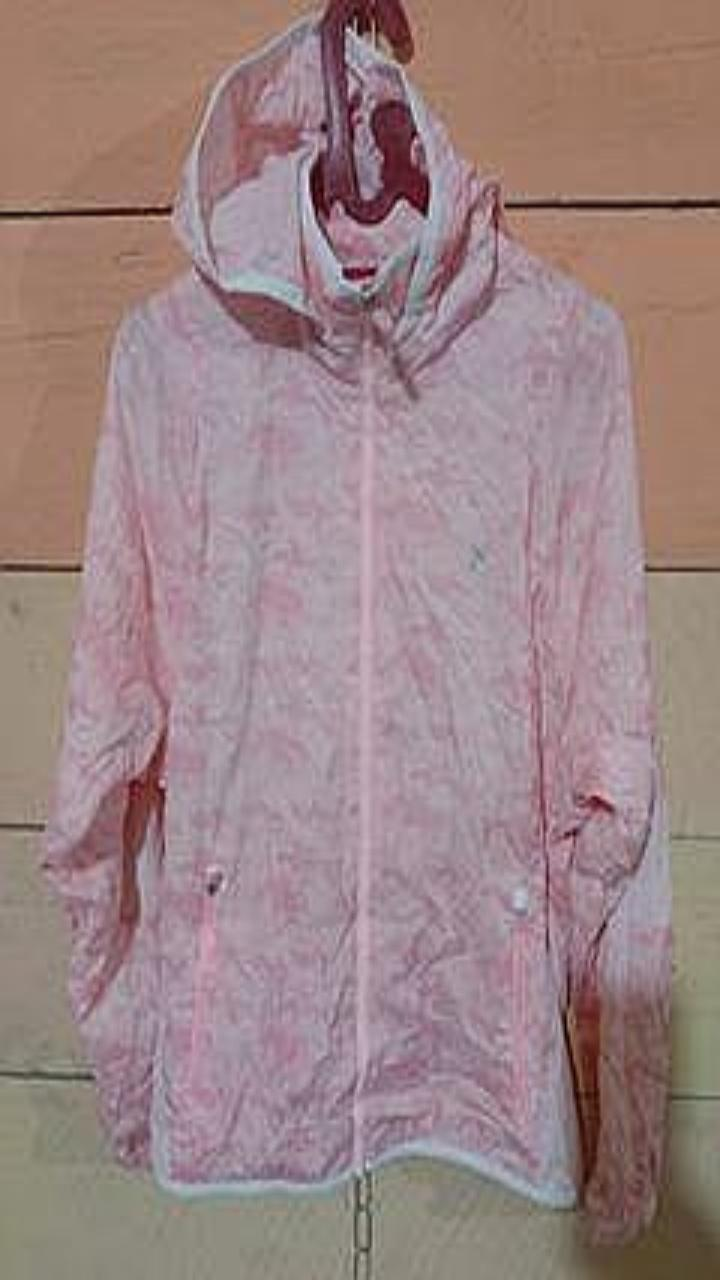Coat: (42, 12, 671, 1242)
